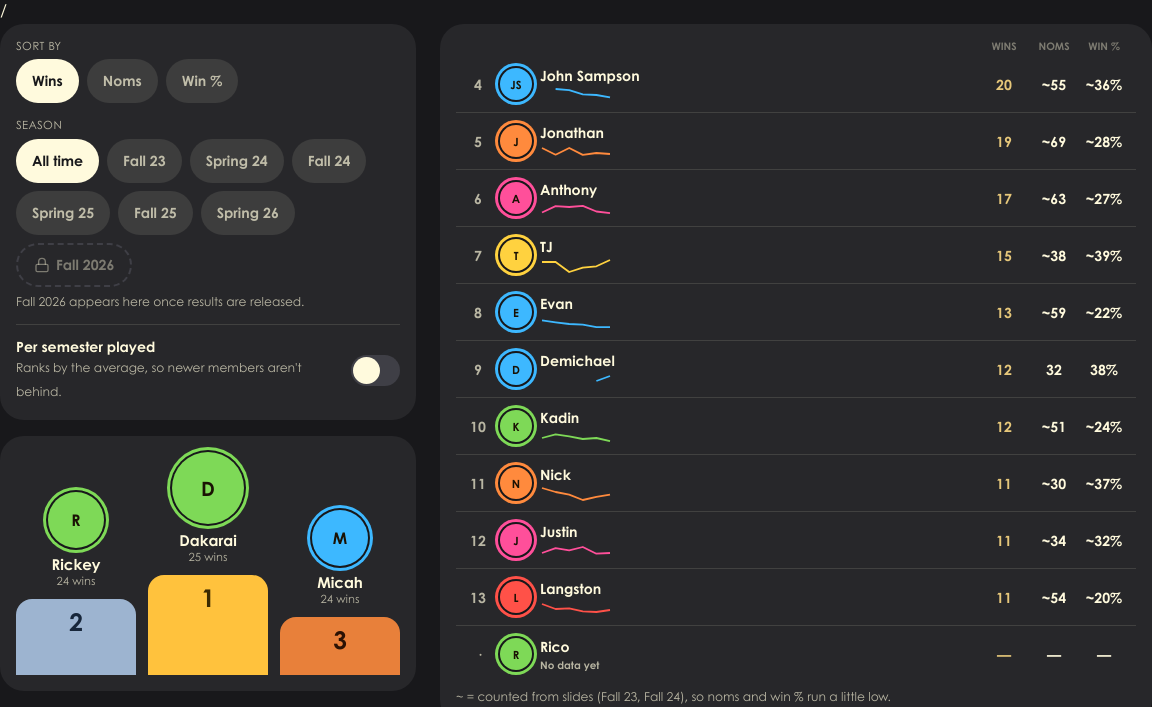
Scenario: Leaderboard › Win %: only members with enough noms are ranked (5 in a semester); the rest are listed unranked with a note
The image size is (1152, 707).
Click the button "Spring 24": (237, 160) [190,138,284,182]
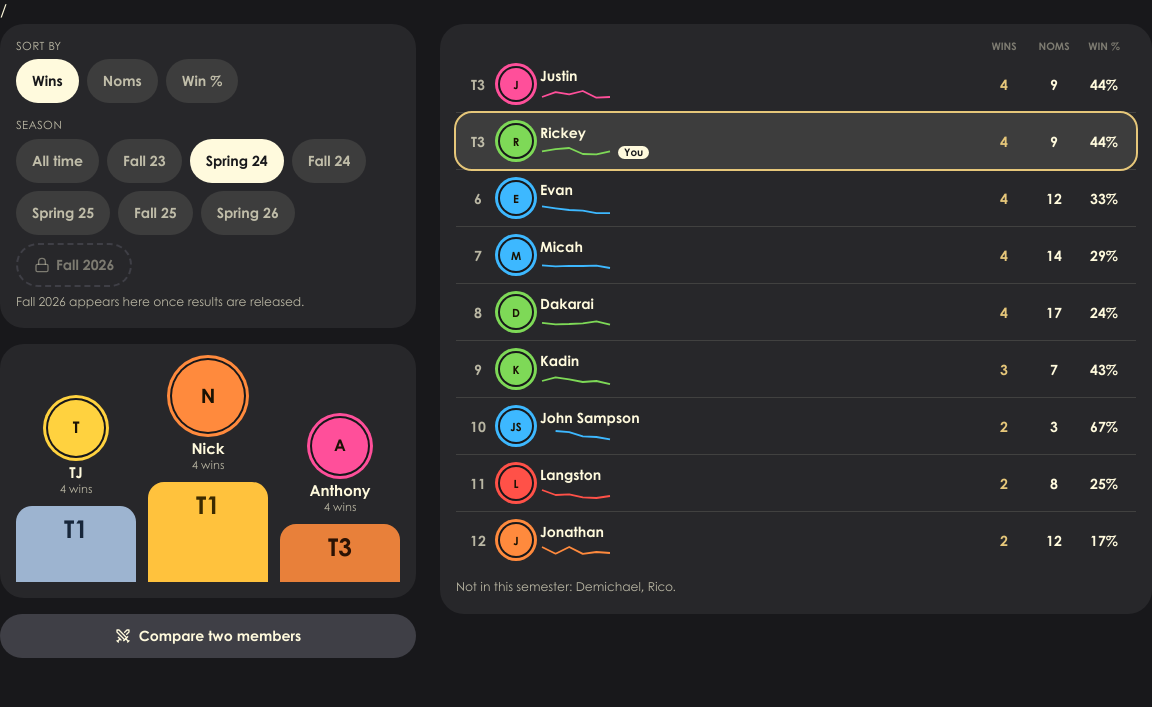
Click the button "Win %": (202, 81) [166,59,238,103]
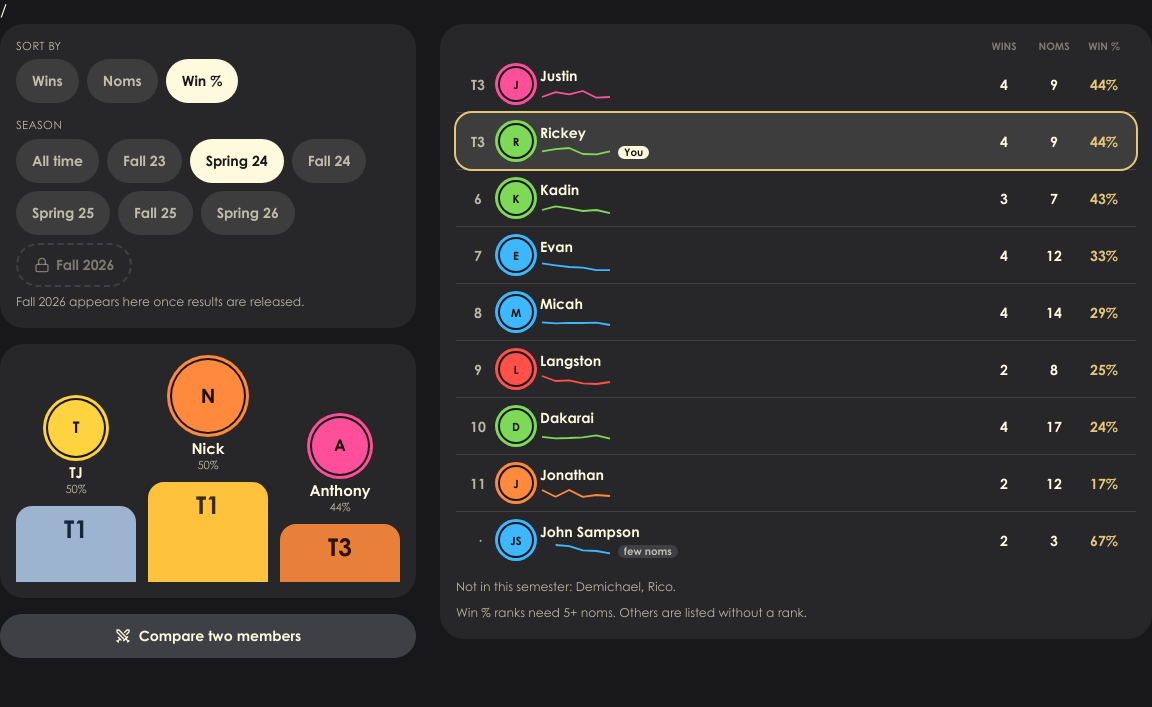
Expected: the text "Win % ranks need 5+ noms. Others are listed without a rank." is shown, [456,608,807,620]
Expected: the list item "· JS John Sampson few noms 2 3 67%" is shown, [456,512,1136,568]
Click the button "All time": (58, 160) [16,138,99,182]
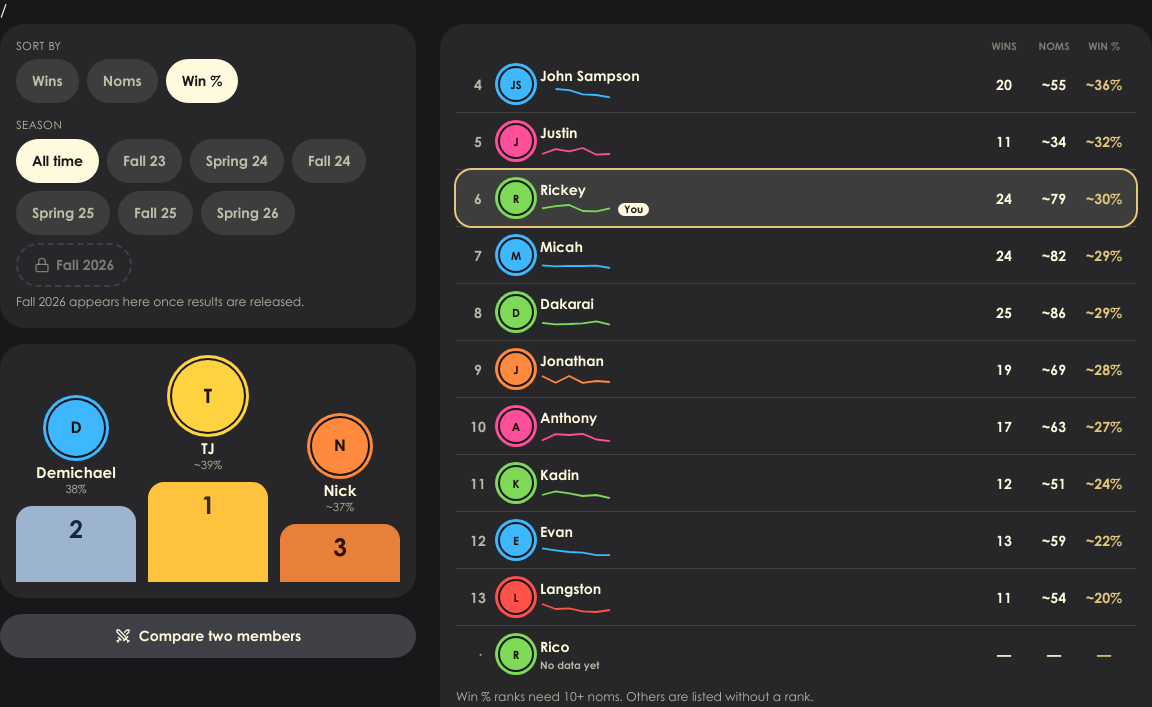
Expected: the text "Win % ranks need 10+ noms. Others are listed without a rank." is shown, [456,692,814,704]
